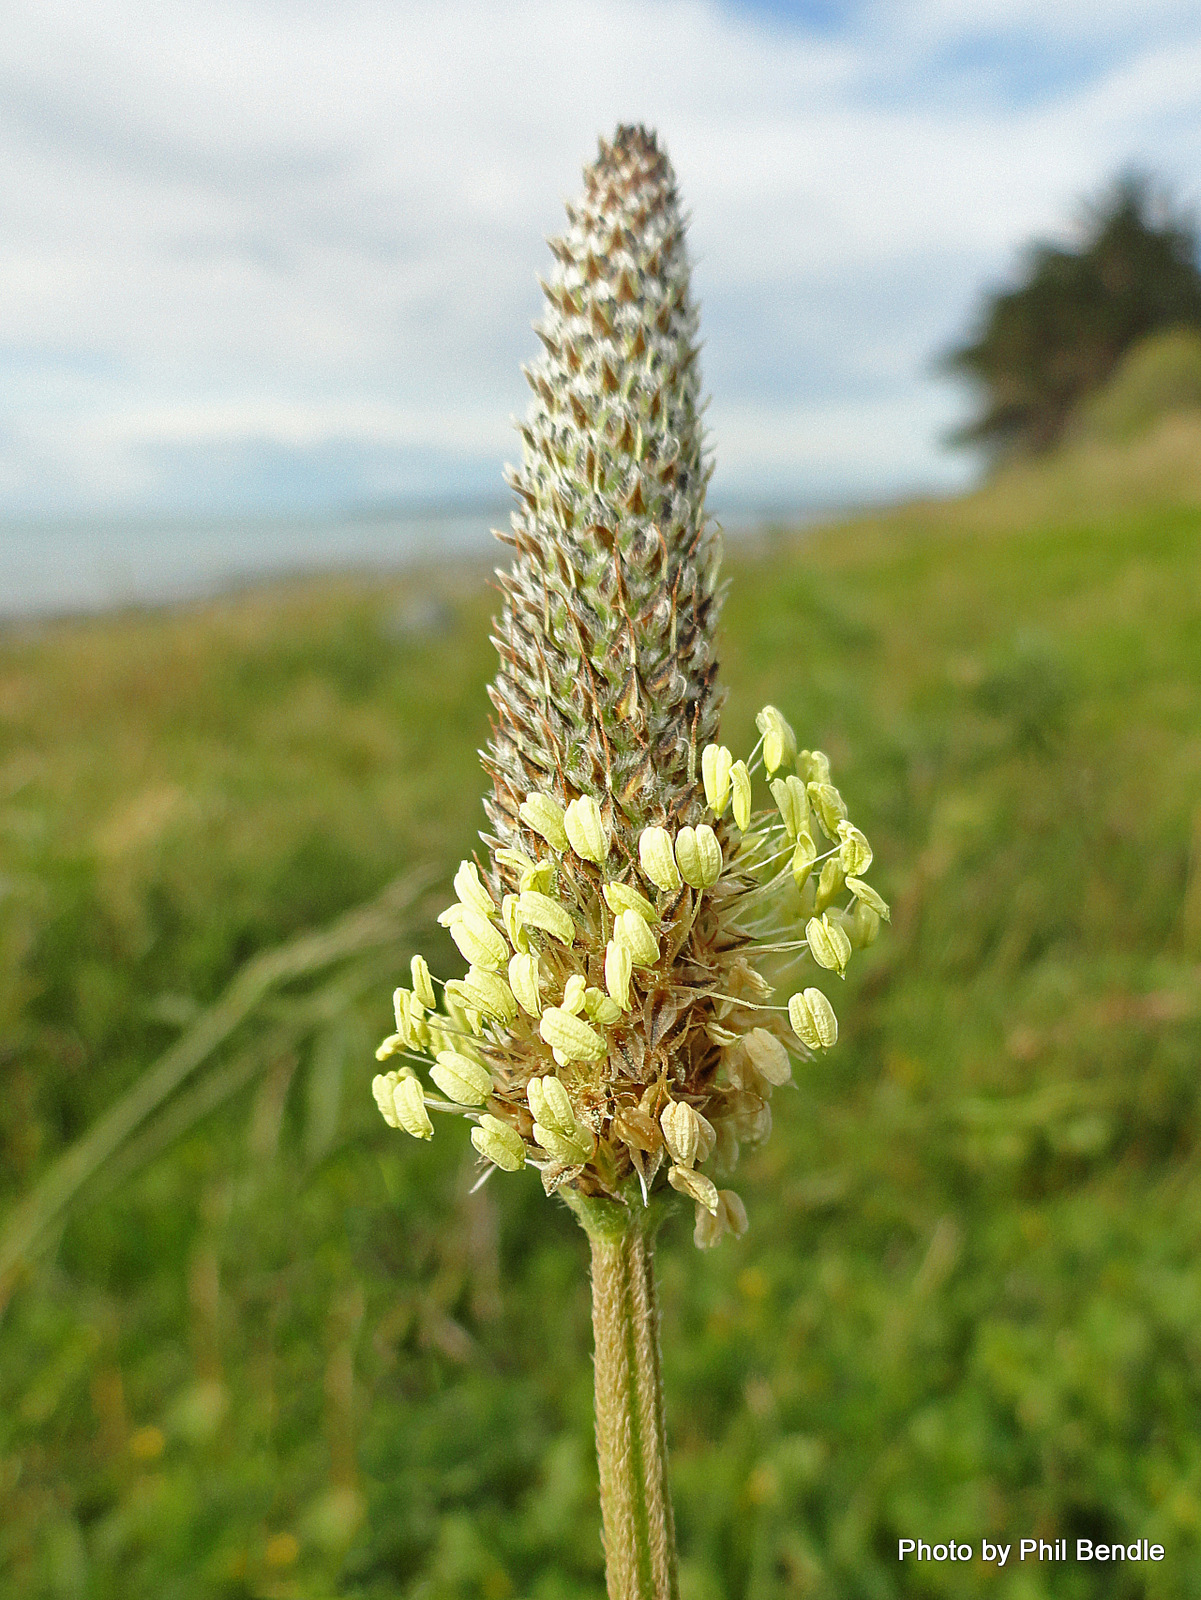buckhorn plantain: (390, 76, 881, 1495)
